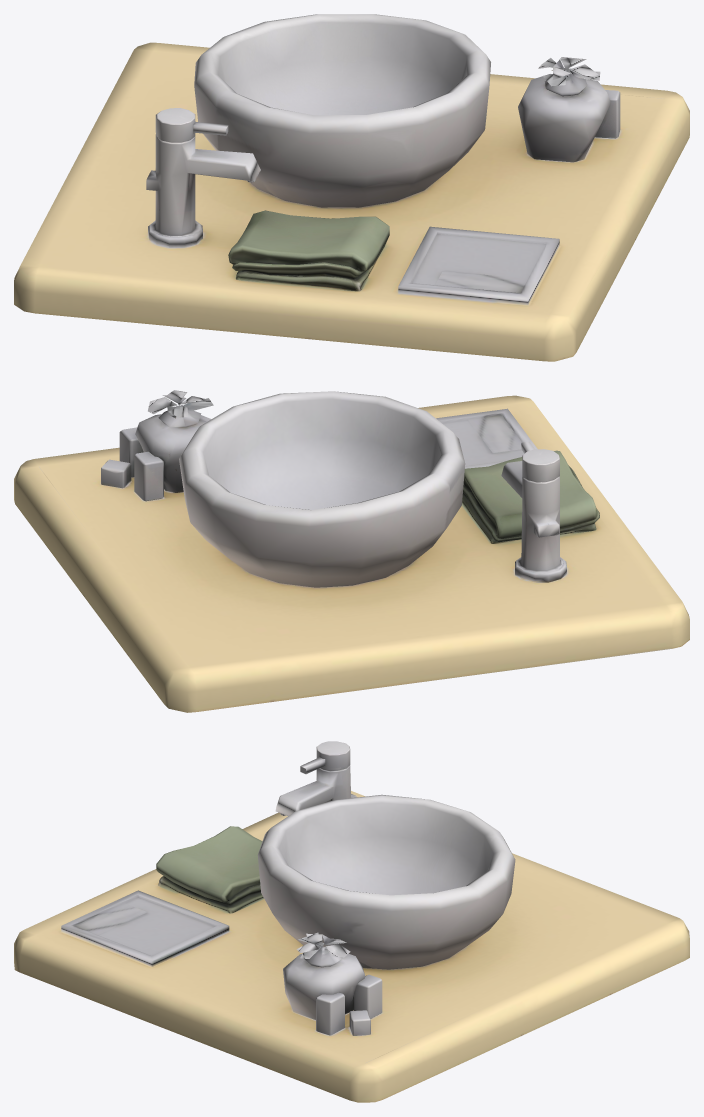
The picture shows the model from 3 angles, top to bottom: view 1: azimuth 30°, elevation 25°; view 2: azimuth 150°, elevation 25°; view 3: azimuth 270°, elevation 25°; orthographic projection. The views are drawn at different scales.
Visible parts, largest first — view 1: tripo_node_d26f7462-a6b5-452e-8912-b33bd421a714; view 2: tripo_node_d26f7462-a6b5-452e-8912-b33bd421a714; view 3: tripo_node_d26f7462-a6b5-452e-8912-b33bd421a714.
Boxes of the visible parts, x1,y1,x2,y2 form: tripo_node_d26f7462-a6b5-452e-8912-b33bd421a714: [14, 14, 689, 361]; tripo_node_d26f7462-a6b5-452e-8912-b33bd421a714: [14, 390, 689, 712]; tripo_node_d26f7462-a6b5-452e-8912-b33bd421a714: [14, 741, 689, 1102].
Size of the model in its own units: 1.37 by 0.2988 by 1.37.
Materials: 1 (1 with a texture image).
